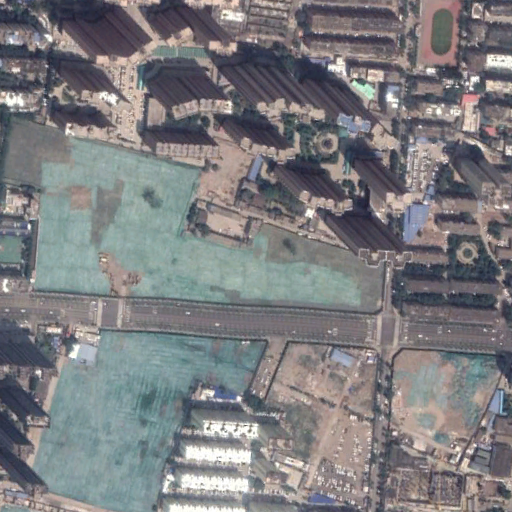cw: (34, 138, 387, 313), (37, 331, 266, 512), (390, 347, 506, 455)
